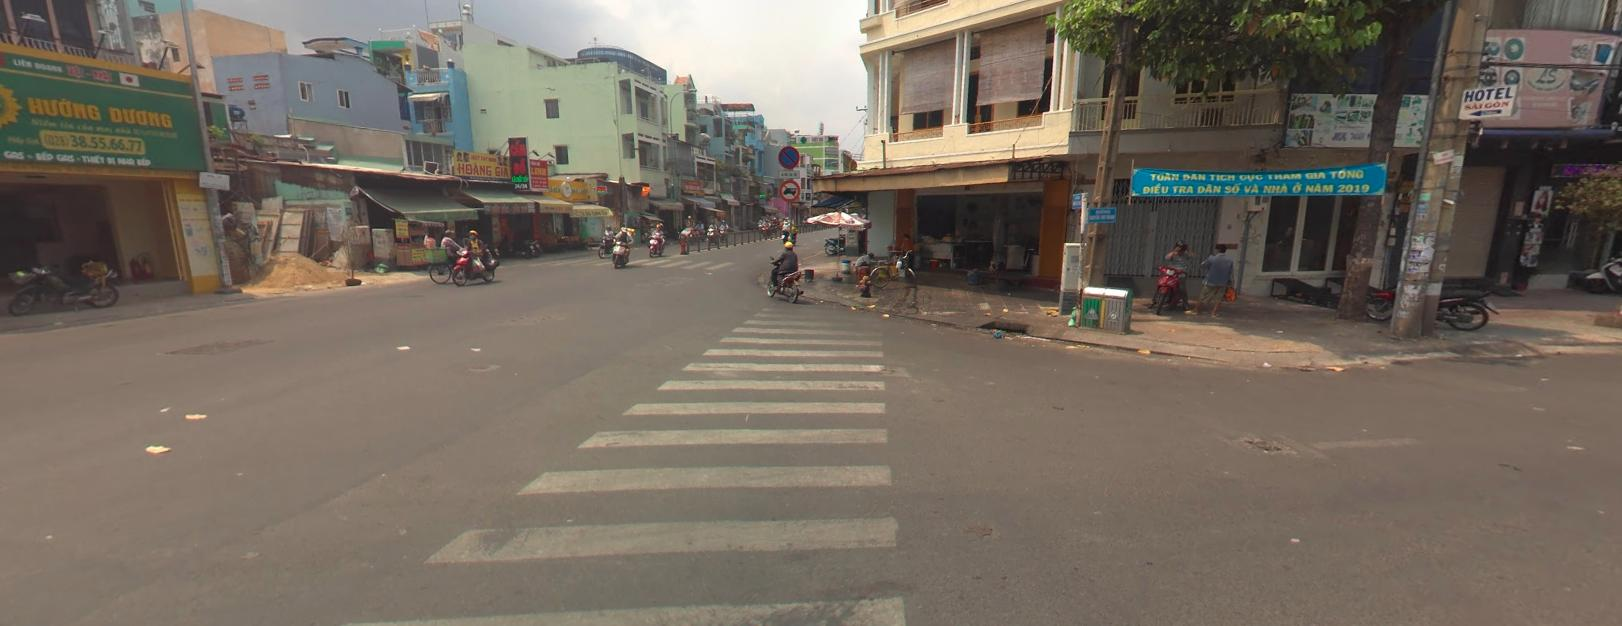Cam con lai: (779, 179, 800, 199)
Cam dung va do: (778, 144, 799, 167)
